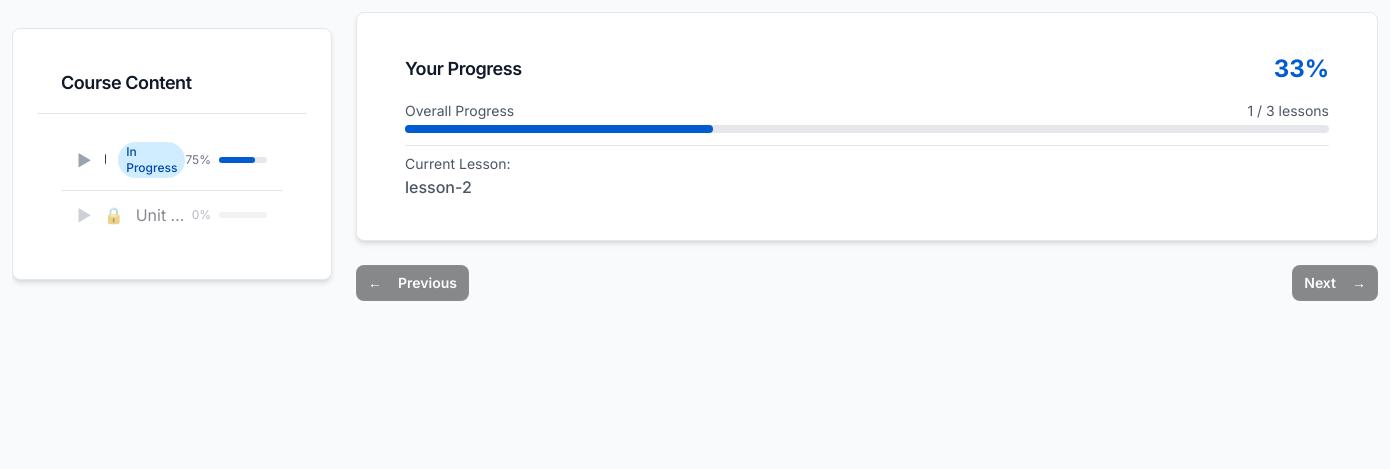
it: ContentNavigation › Progress Display › displays status badges for lessons
This screenshot has width=1390, height=469.
# Expand unit to see lessons
Click the text "Unit 1: Basics": x=105, y=160 [104,148,106,172]
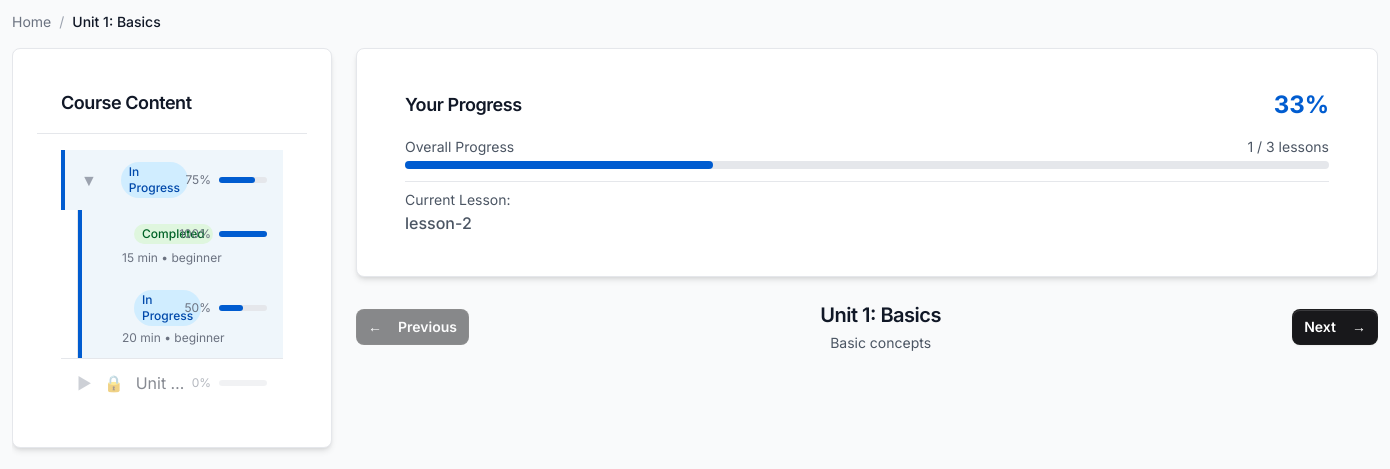
expect the button "Lesson 1" shows "Completed": met, box [78,210,283,278]
